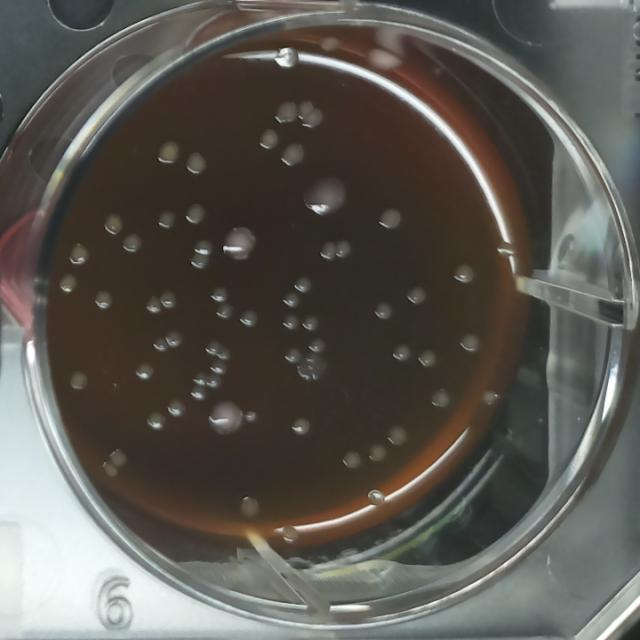Bacillus: (300, 169, 352, 220), (220, 222, 260, 266), (205, 396, 244, 440)
Vagococcus: (373, 201, 406, 235), (295, 353, 330, 384), (450, 257, 480, 289), (154, 135, 183, 168), (279, 138, 308, 170), (456, 328, 485, 356), (184, 148, 210, 177), (256, 124, 282, 153), (183, 200, 210, 227), (273, 97, 299, 125), (237, 491, 262, 520), (403, 282, 429, 309), (120, 230, 146, 256), (300, 105, 326, 130), (371, 298, 396, 324), (415, 346, 440, 372), (289, 414, 314, 440), (102, 211, 126, 238), (66, 242, 91, 267), (390, 340, 414, 366), (132, 358, 156, 384), (428, 385, 452, 410), (386, 423, 410, 448), (56, 270, 81, 294), (66, 368, 90, 392), (279, 522, 302, 546), (92, 287, 114, 312), (292, 273, 315, 296), (145, 409, 168, 432), (192, 235, 215, 258), (478, 386, 502, 408), (334, 237, 355, 262), (280, 309, 302, 332), (342, 449, 364, 472), (238, 306, 260, 329), (300, 310, 322, 332), (366, 441, 388, 463), (142, 294, 164, 316), (158, 289, 180, 311), (156, 208, 178, 230), (165, 396, 187, 418), (365, 488, 388, 508), (318, 238, 336, 263), (215, 301, 236, 322), (307, 334, 327, 356), (108, 447, 128, 469), (282, 289, 302, 310), (164, 327, 183, 349), (152, 335, 172, 355), (210, 283, 230, 303), (210, 358, 230, 378), (283, 344, 302, 365), (297, 97, 314, 120), (190, 383, 209, 402), (100, 461, 120, 479), (190, 253, 210, 271), (192, 370, 210, 388), (205, 338, 222, 356), (206, 373, 224, 390), (218, 345, 235, 362)
